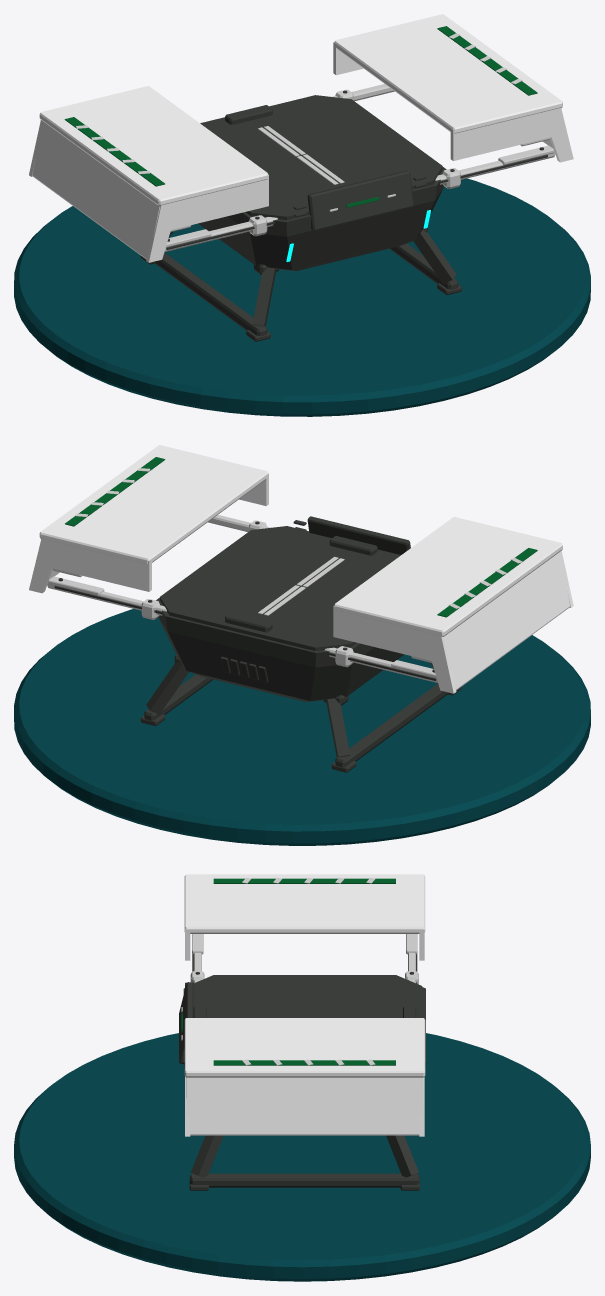
File: brinc-responder-station.glb
The picture shows the model from 3 angles, top to bottom: view 1: azimuth 30°, elevation 25°; view 2: azimuth 150°, elevation 25°; view 3: azimuth 270°, elevation 25°; orthographic projection.
Visible parts, largest first — view 1: pedestal, body, left-shell, right-shell, skids, slide-rails; view 2: pedestal, body, left-shell, right-shell, skids, slide-rails; view 3: pedestal, right-shell, left-shell, body, skids, slide-rails.
Part boxes in pixels (left/top/right/bottom): pedestal: left=14, top=178, right=590, bottom=416; body: left=198, top=95, right=446, bottom=271; left-shell: left=29, top=86, right=268, bottom=262; right-shell: left=333, top=14, right=573, bottom=162; skids: left=140, top=227, right=461, bottom=341; slide-rails: left=164, top=84, right=555, bottom=252; pedestal: left=14, top=609, right=590, bottom=845; body: left=156, top=516, right=410, bottom=701; left-shell: left=333, top=517, right=573, bottom=693; right-shell: left=29, top=445, right=268, bottom=593; skids: left=140, top=655, right=461, bottom=772; slide-rails: left=47, top=515, right=437, bottom=682; pedestal: left=14, top=1033, right=590, bottom=1281; right-shell: left=184, top=1018, right=425, bottom=1136; left-shell: left=184, top=874, right=425, bottom=960; body: left=179, top=975, right=425, bottom=1067; skids: left=189, top=1135, right=419, bottom=1190; slide-rails: left=190, top=934, right=418, bottom=984.
Size of the model in its own units: 4.4 by 1.6 by 4.4.
